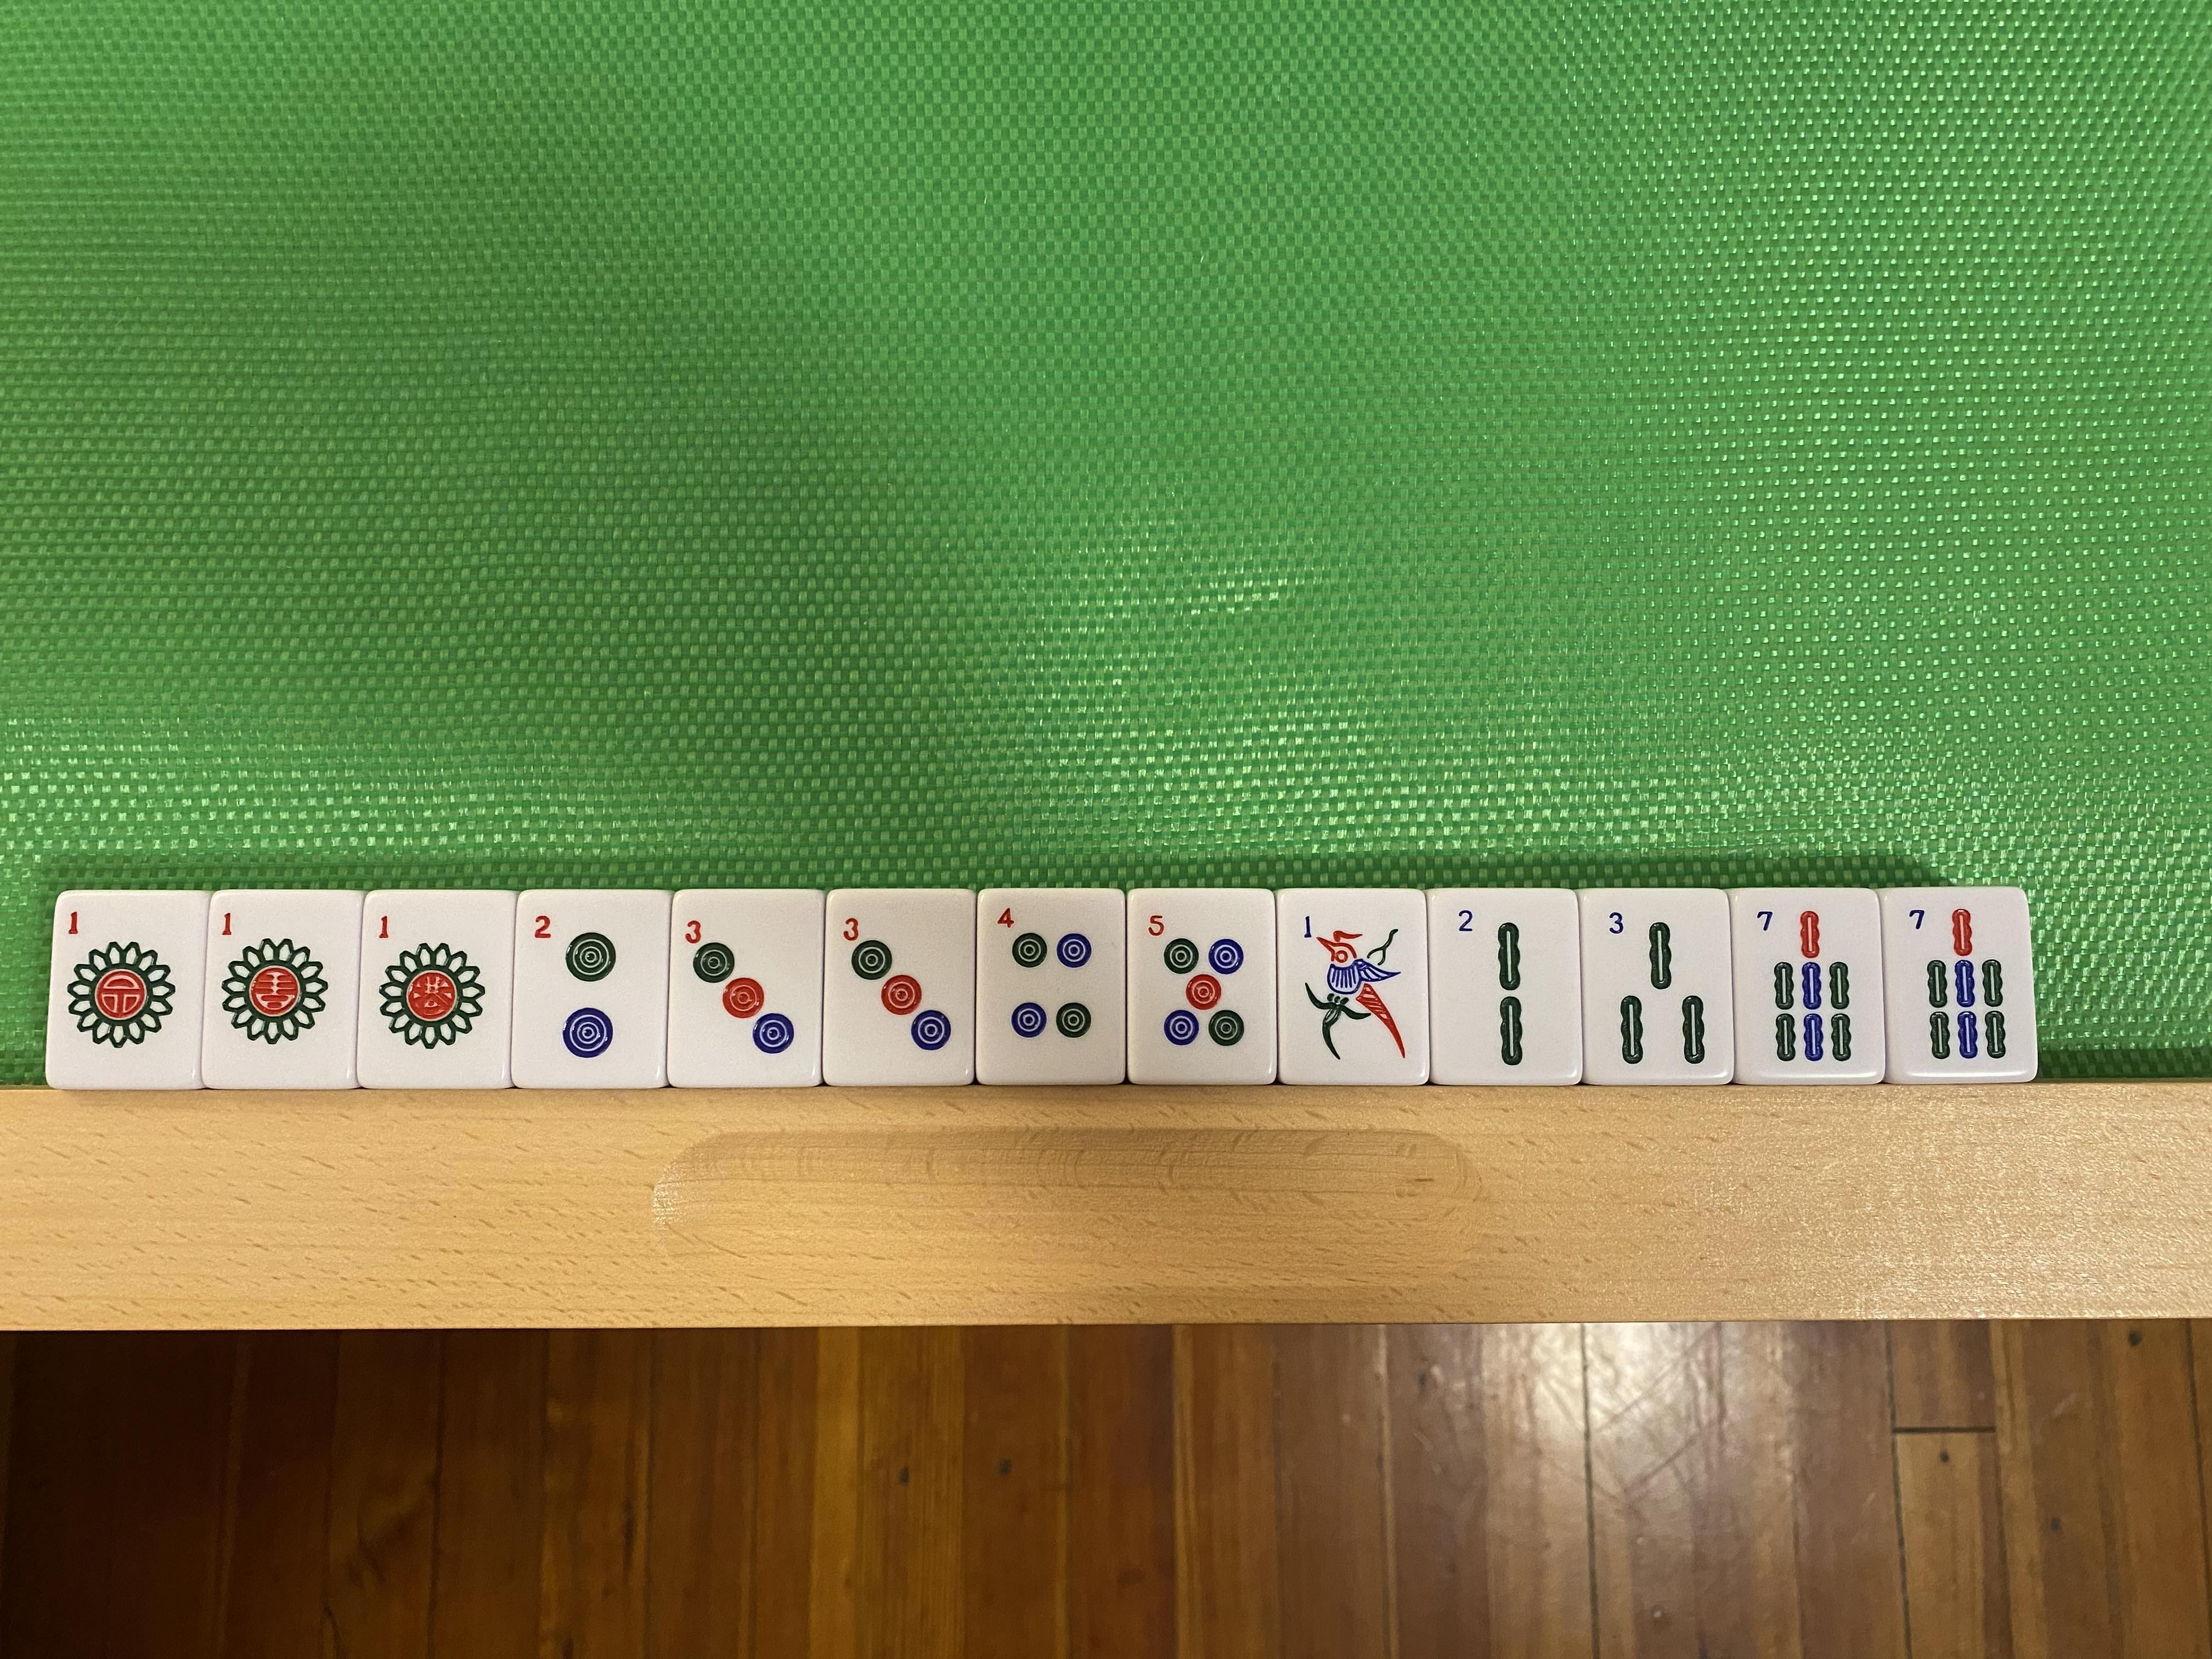bamboo-one: (1284, 901, 1416, 1073)
bamboo-seven: (1740, 901, 1878, 1073), (1892, 897, 2022, 1070)
bamboo-three: (1590, 901, 1719, 1073)
bamboo-two: (1442, 899, 1568, 1077)
circle-five: (1139, 899, 1264, 1068)
circle-four: (981, 901, 1113, 1070)
circle-one: (366, 899, 502, 1079), (214, 901, 347, 1079), (61, 899, 190, 1080)
circle-three: (679, 897, 815, 1079), (834, 899, 961, 1073)
circle-two: (519, 901, 658, 1080)
